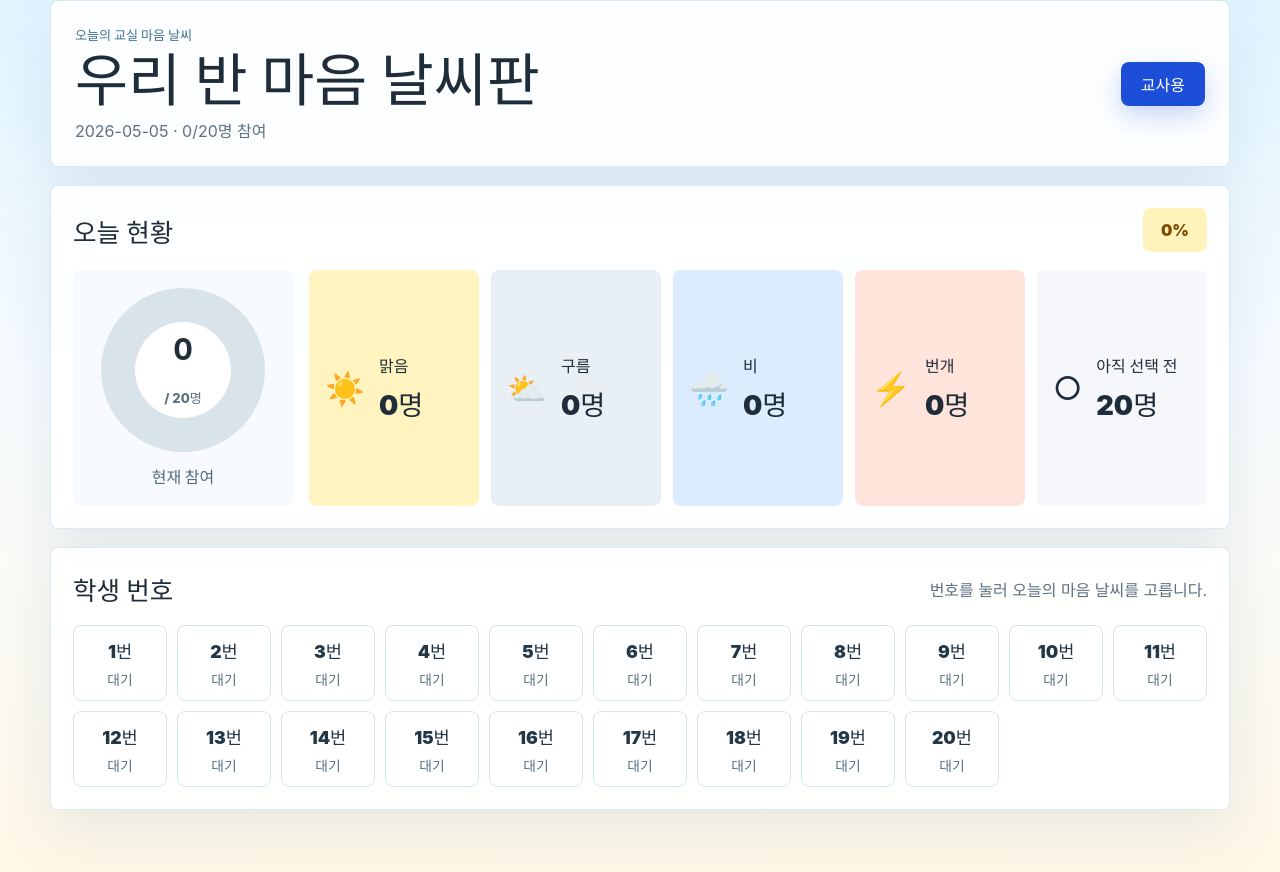
Test: Classroom emotion tracker app › updates class size from settings
Click the button with aria-label "선생님 모드 열기": (1163, 84) [1121, 62, 1205, 106]
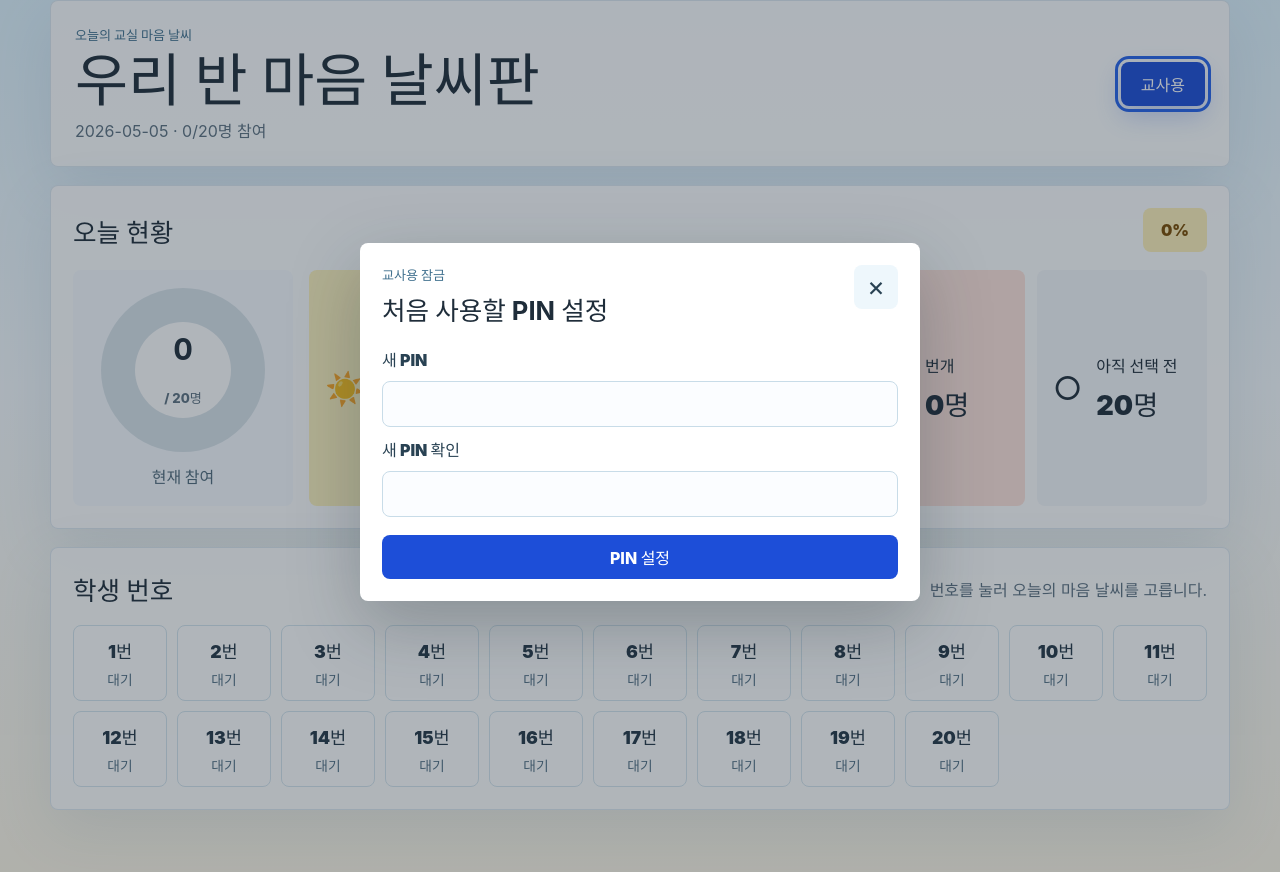
In the password field labelled "새 PIN": (640, 404) [382, 381, 898, 427], type "2468"
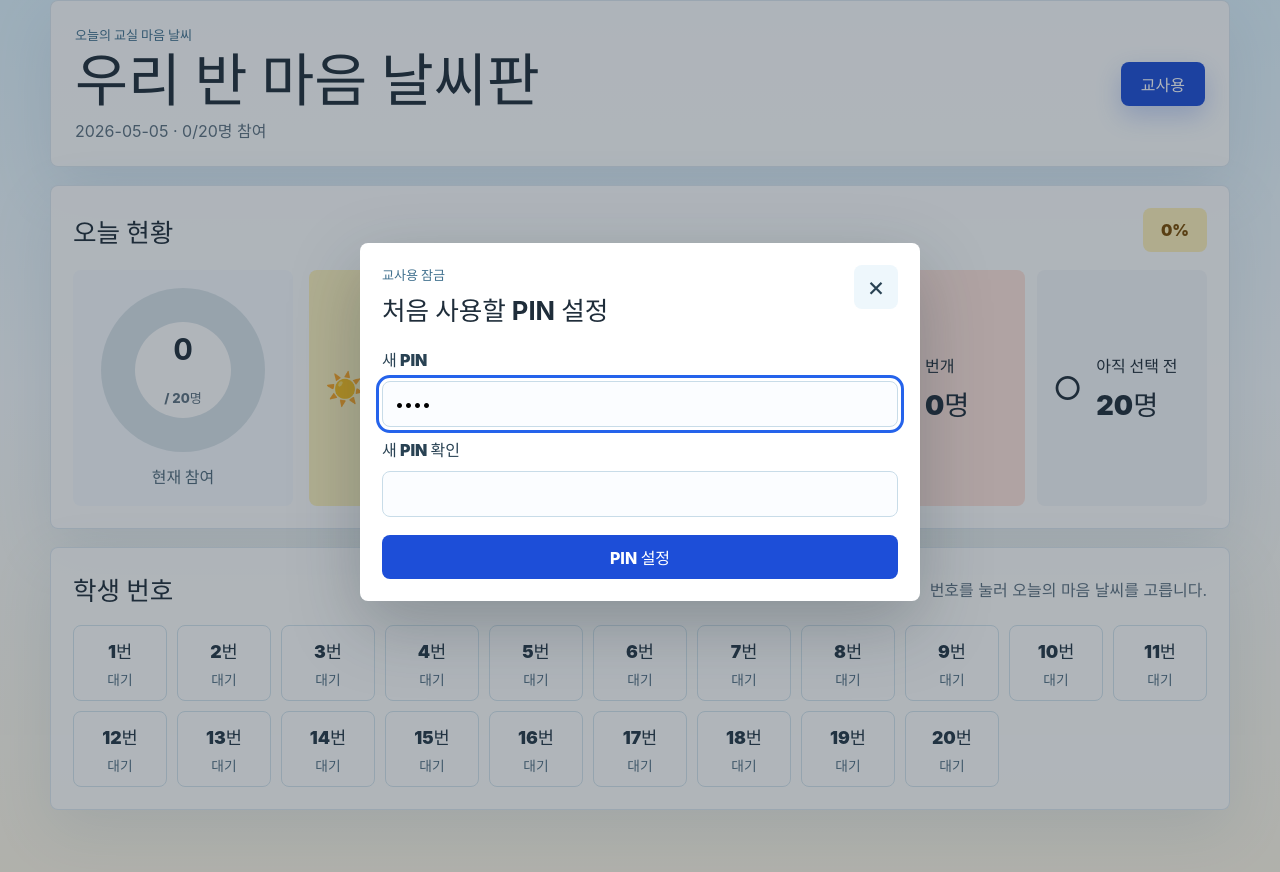
In the password field labelled "새 PIN 확인": (640, 494) [382, 471, 898, 517], type "2468"
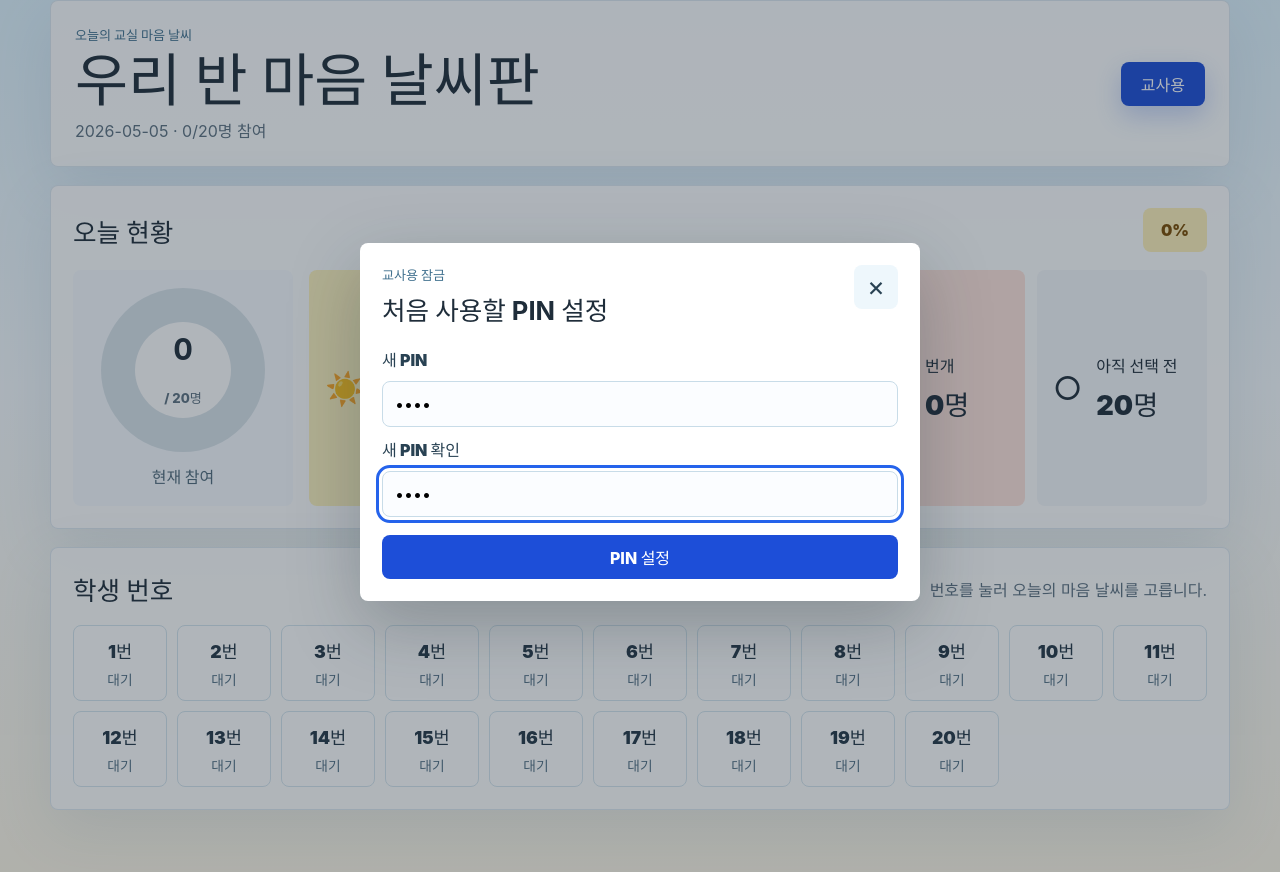
Click the button "PIN 설정": (640, 557) [382, 535, 898, 579]
(page scrolled)
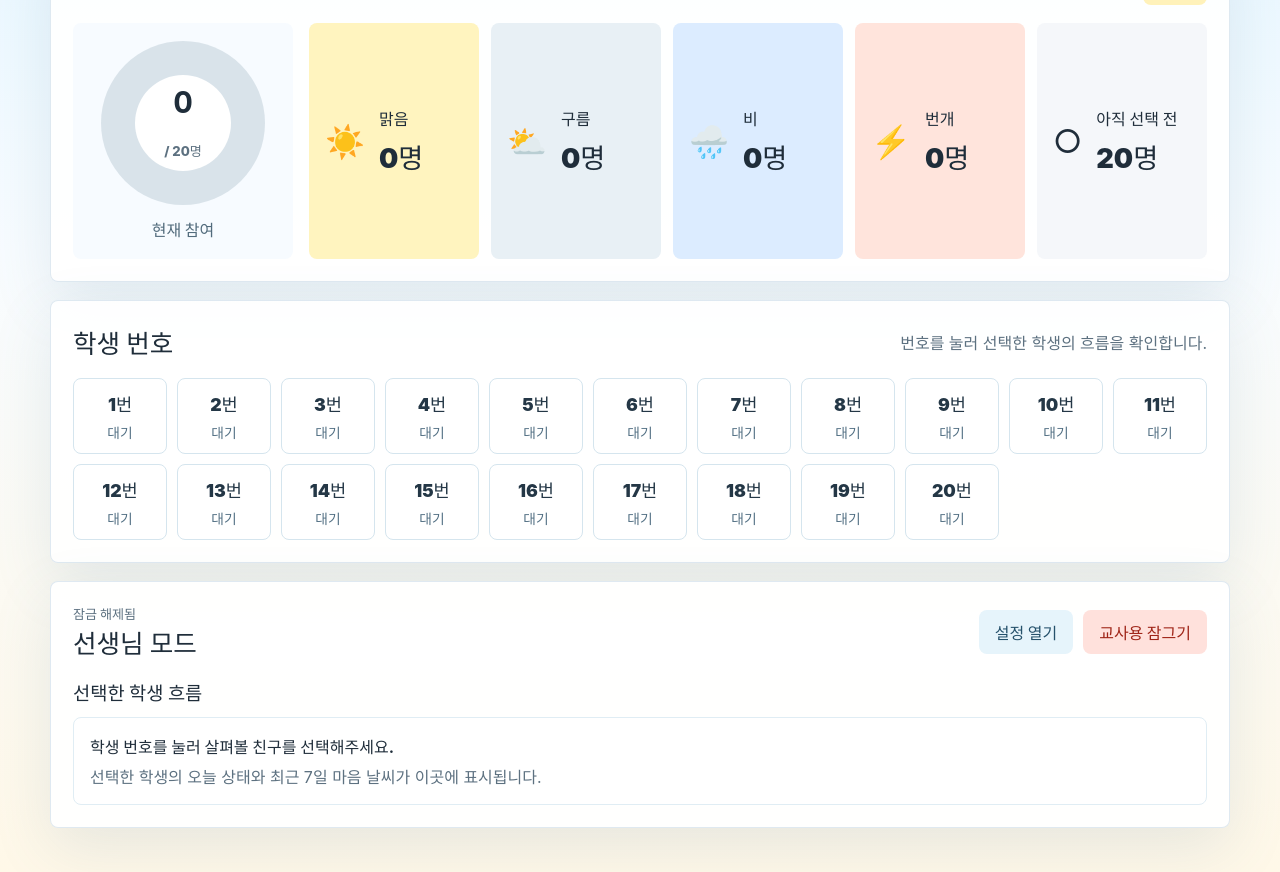
Click the button "설정 열기": (1026, 632) [979, 610, 1073, 654]
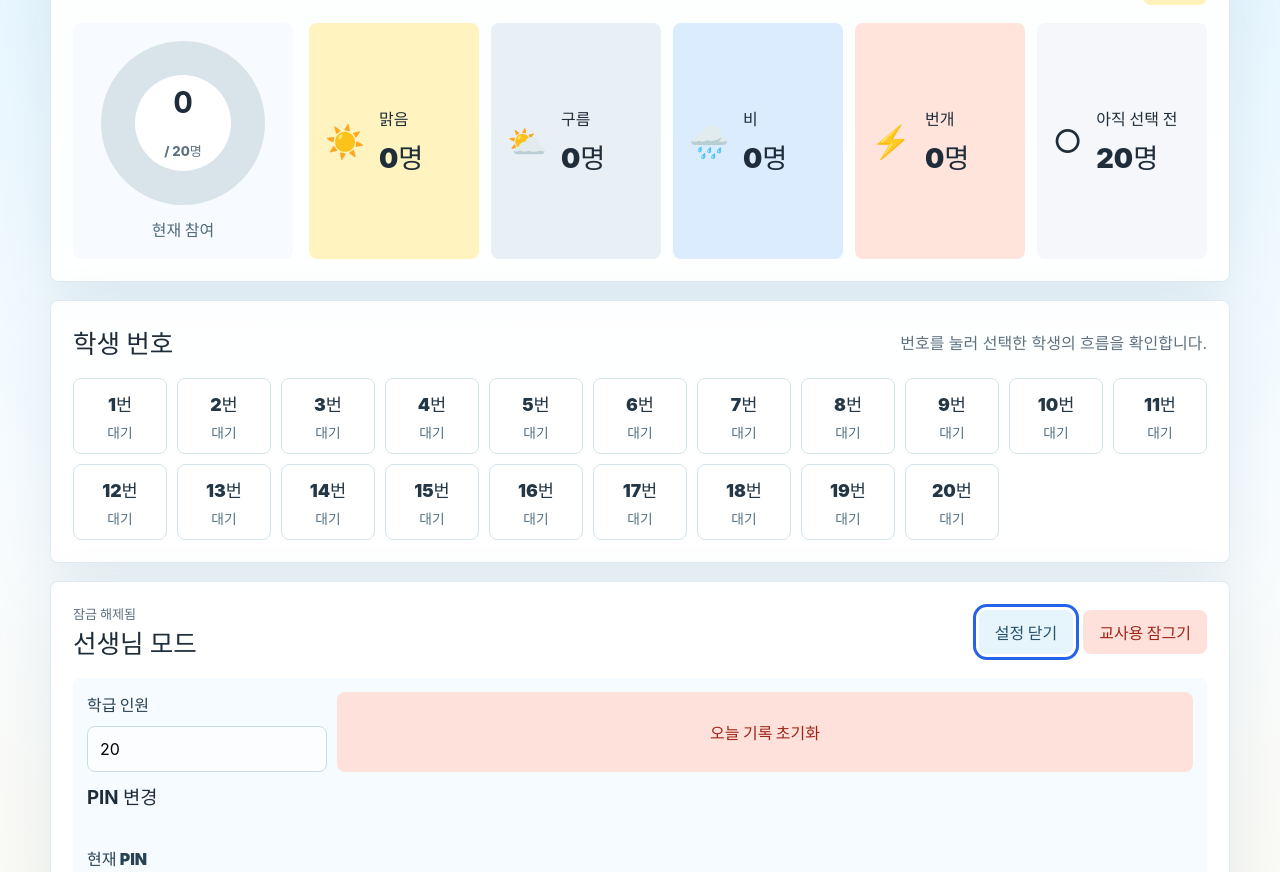
Replace the text in the number field labelled "학급 인원" with "12": (207, 750) [87, 726, 327, 772]
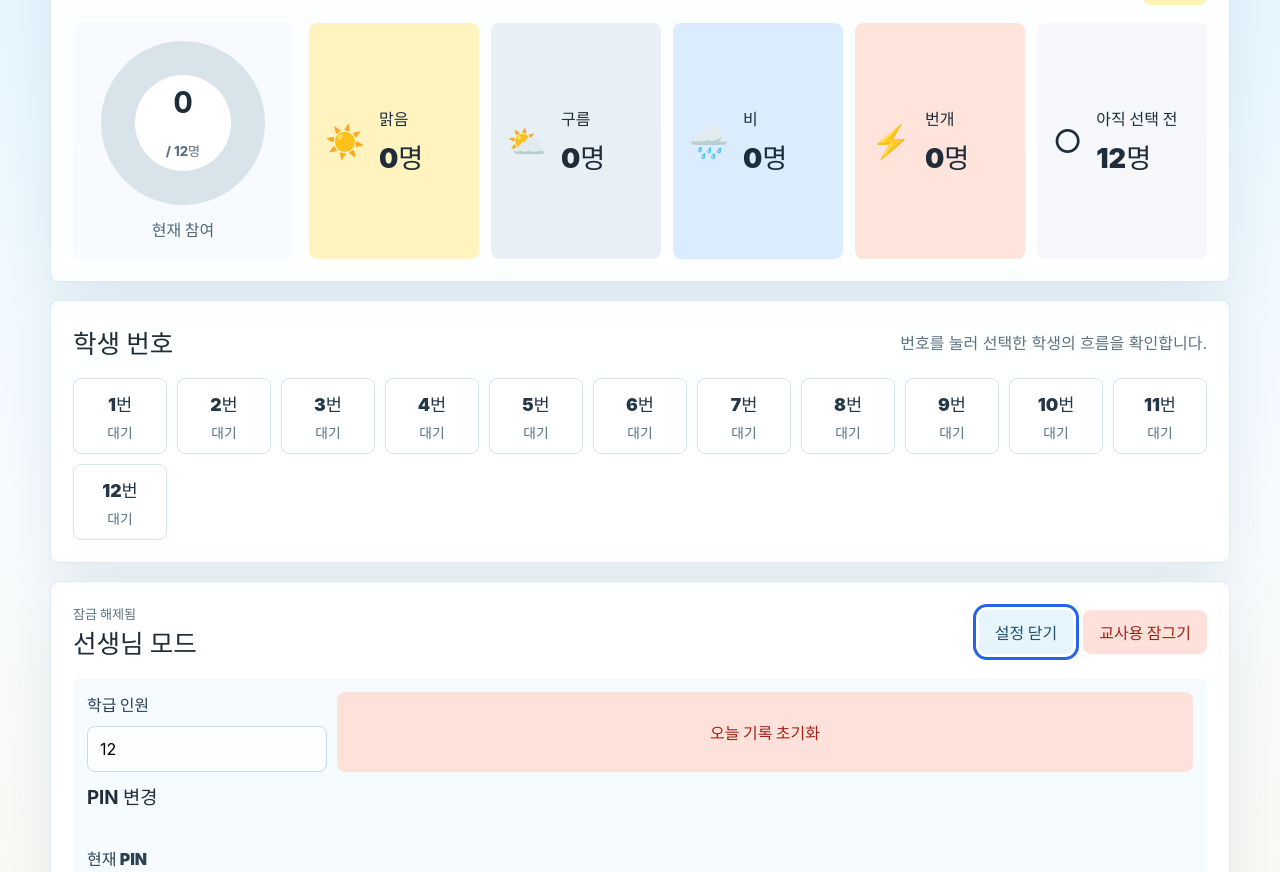
Expected: the button "12번 대기" is shown, [73, 464, 167, 540]
Now the button "13번" is gone
